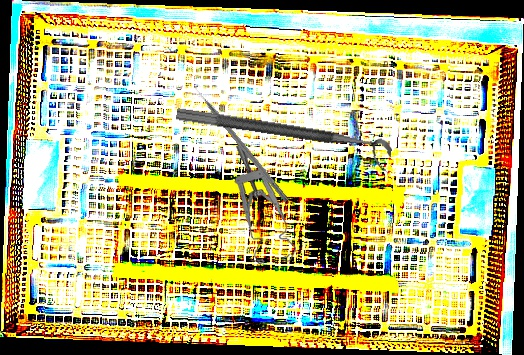Fixation Ring: (172, 106, 394, 173)
Hook Surgical: (191, 82, 291, 203)
Speculum: (226, 141, 305, 269)
